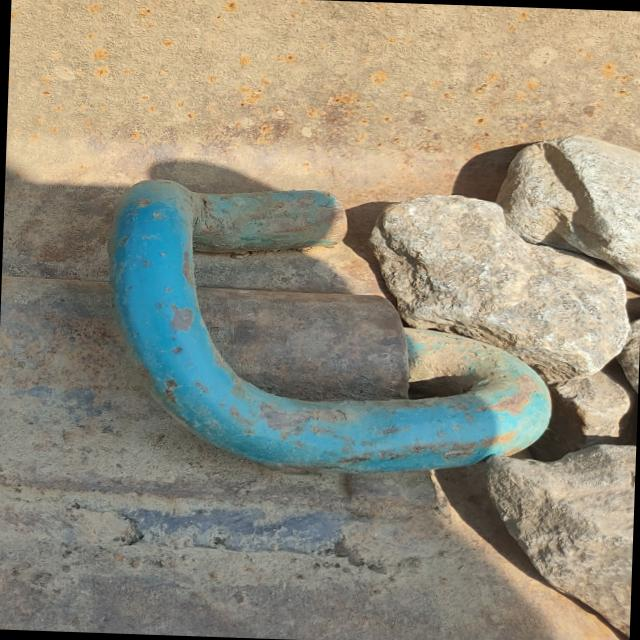track_bolt: (95, 170, 566, 487)
